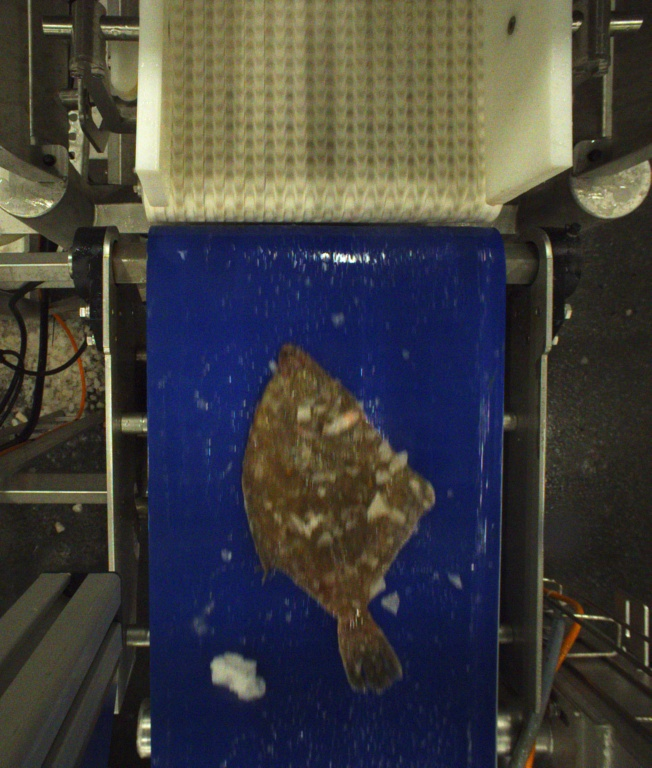PLE: (239, 342, 437, 693)
